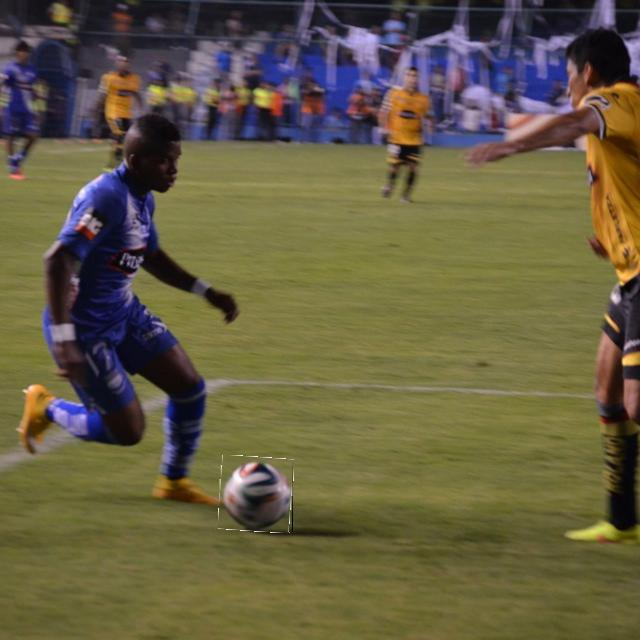Football: (219, 456, 293, 532)
